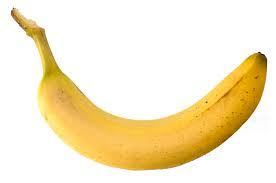banana: (11, 5, 267, 171)
